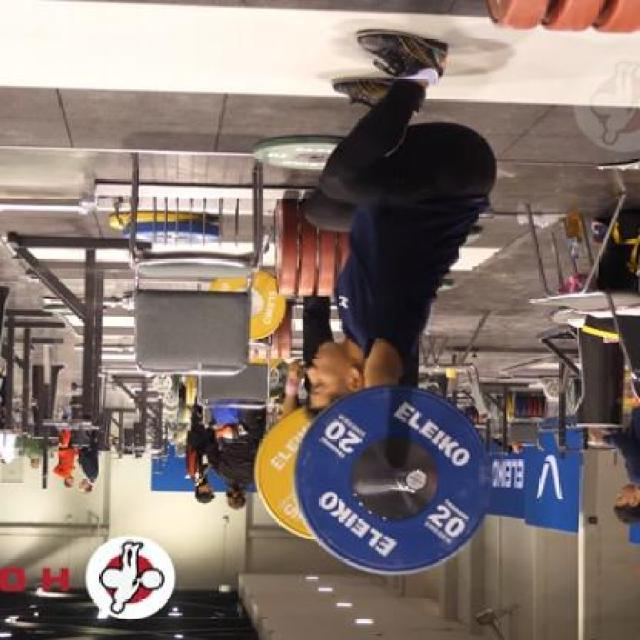Barbell: (396, 464, 430, 496)
